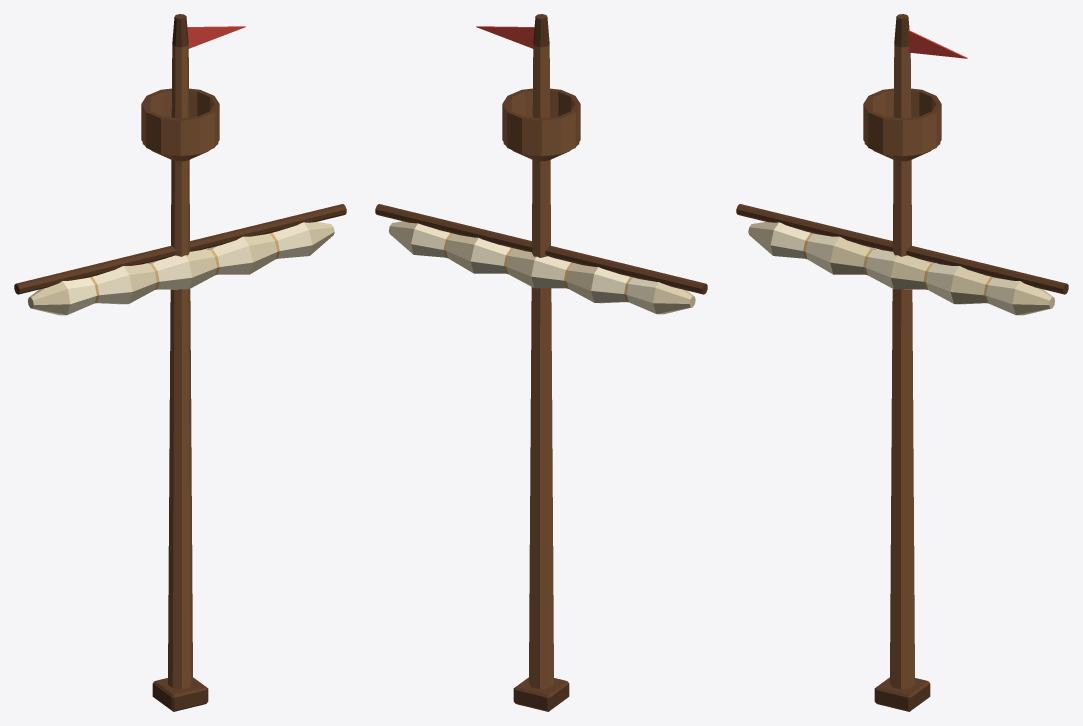
The model's file is mast_sail.glb.
3 views of the same model, side by side, from view 1: azimuth 30°, elevation 25°; view 2: azimuth 150°, elevation 25°; view 3: azimuth 330°, elevation 25° (orthographic).
Visible parts, largest first — view 1: mast_sail; view 2: mast_sail; view 3: mast_sail.
Boxes of the visible parts, <box> form: mast_sail: <box>14,14,346,711</box>; mast_sail: <box>375,14,707,711</box>; mast_sail: <box>736,14,1068,711</box>.
Bounding box in the file's own units: 5 × 10 × 1.04.
Materials: 1 (1 with a texture image).
